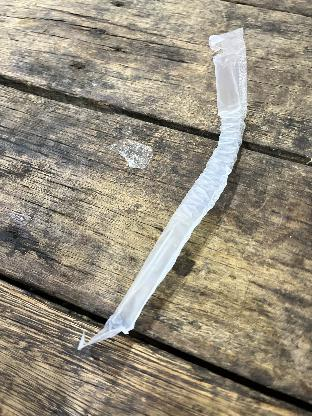Others: (80, 24, 250, 354)
